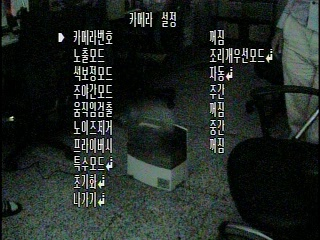smoke: (140, 96, 178, 133)
